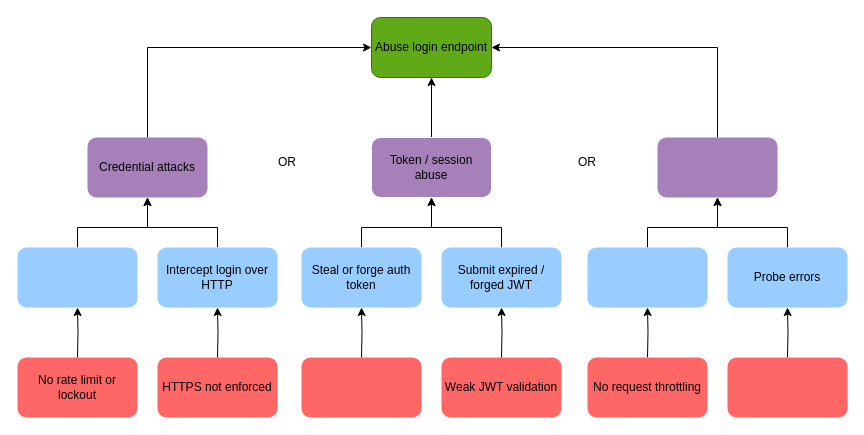
Some shapes in this 864 by 435 pixel diagram are drawn without their labels. Here are the shapes that lost their labels. From the top down, the centre of each, then its label:
the point at 717,167: DoS / enumeration
the point at 77,277: Brute-force
the point at 647,277: Flood login endpoint
the point at 361,387: XSS / insecure token storage
the point at 787,387: Verbose errors
